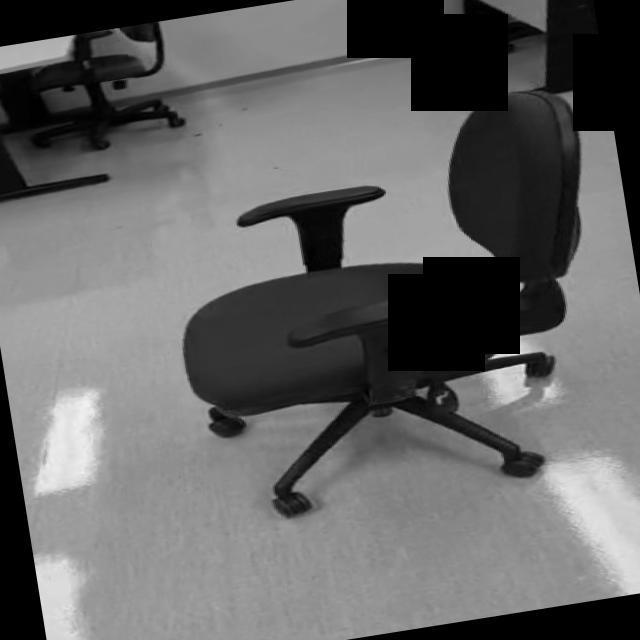chair: (149, 84, 632, 532)
